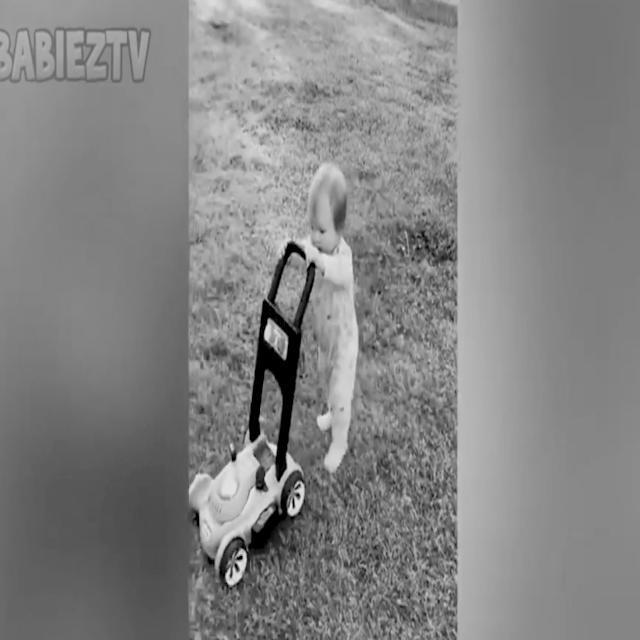child: (278, 165, 359, 475)
